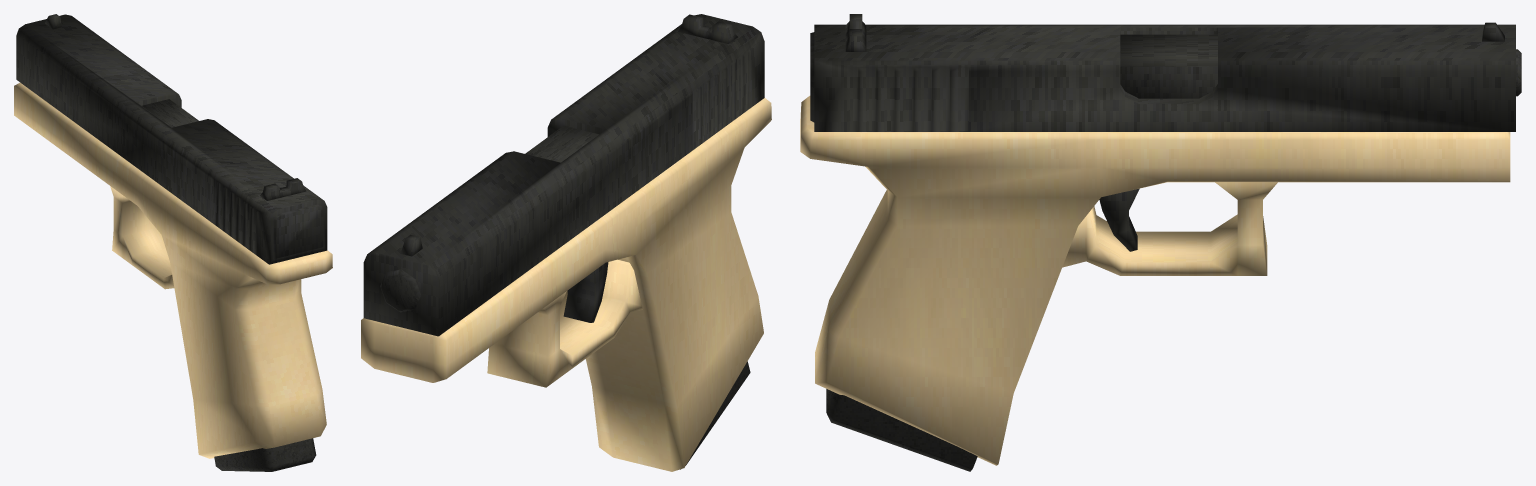
The model's file is pistol.glb.
The picture shows the model from 3 angles, left to right: view 1: azimuth 30°, elevation 25°; view 2: azimuth 150°, elevation 25°; view 3: azimuth 270°, elevation 25°; orthographic projection. The views are drawn at different scales.
Visible parts, largest first — view 1: pistol; view 2: pistol; view 3: pistol.
Part boxes in pixels (<box>): pistol: <box>14,14,332,471</box>; pistol: <box>361,14,771,471</box>; pistol: <box>800,14,1521,471</box>.
Bounding box in the file's own units: 0.0279 × 0.1259 × 0.19.
1 material, 1 textured.
